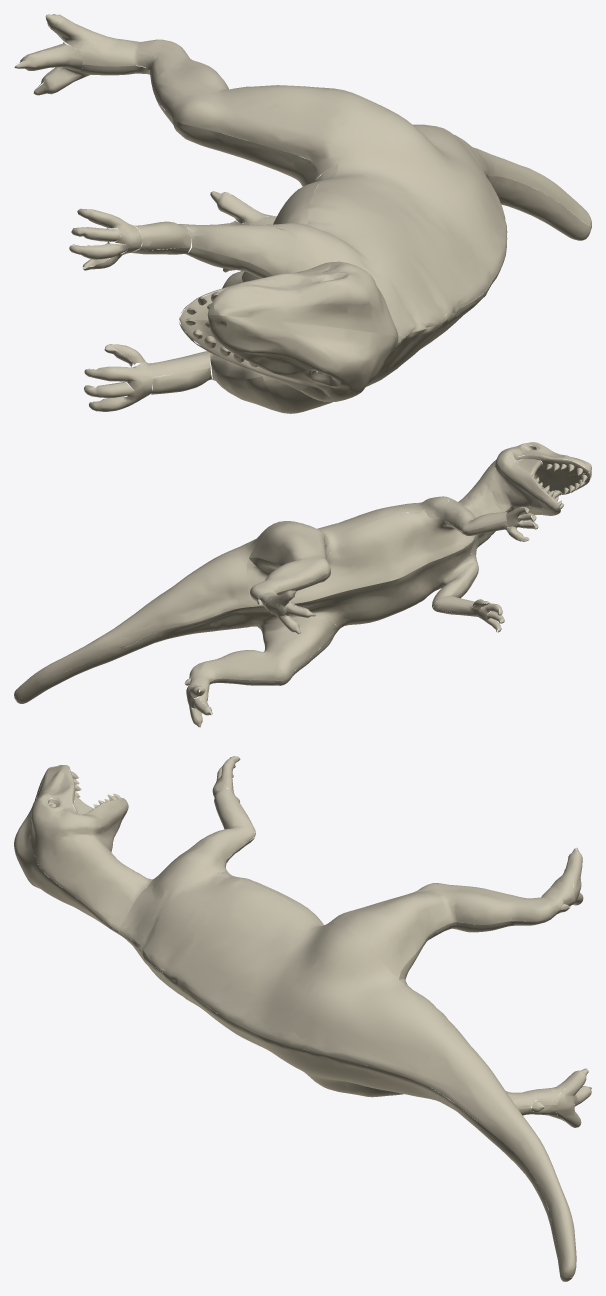
Rendered from gryponyx.glb.
The picture shows the model from 3 angles, top to bottom: view 1: azimuth 30°, elevation 25°; view 2: azimuth 150°, elevation 25°; view 3: azimuth 270°, elevation 25°; orthographic projection. The views are drawn at different scales.
Size of the model in its own units: 9.99 by 4.78 by 9.24.
